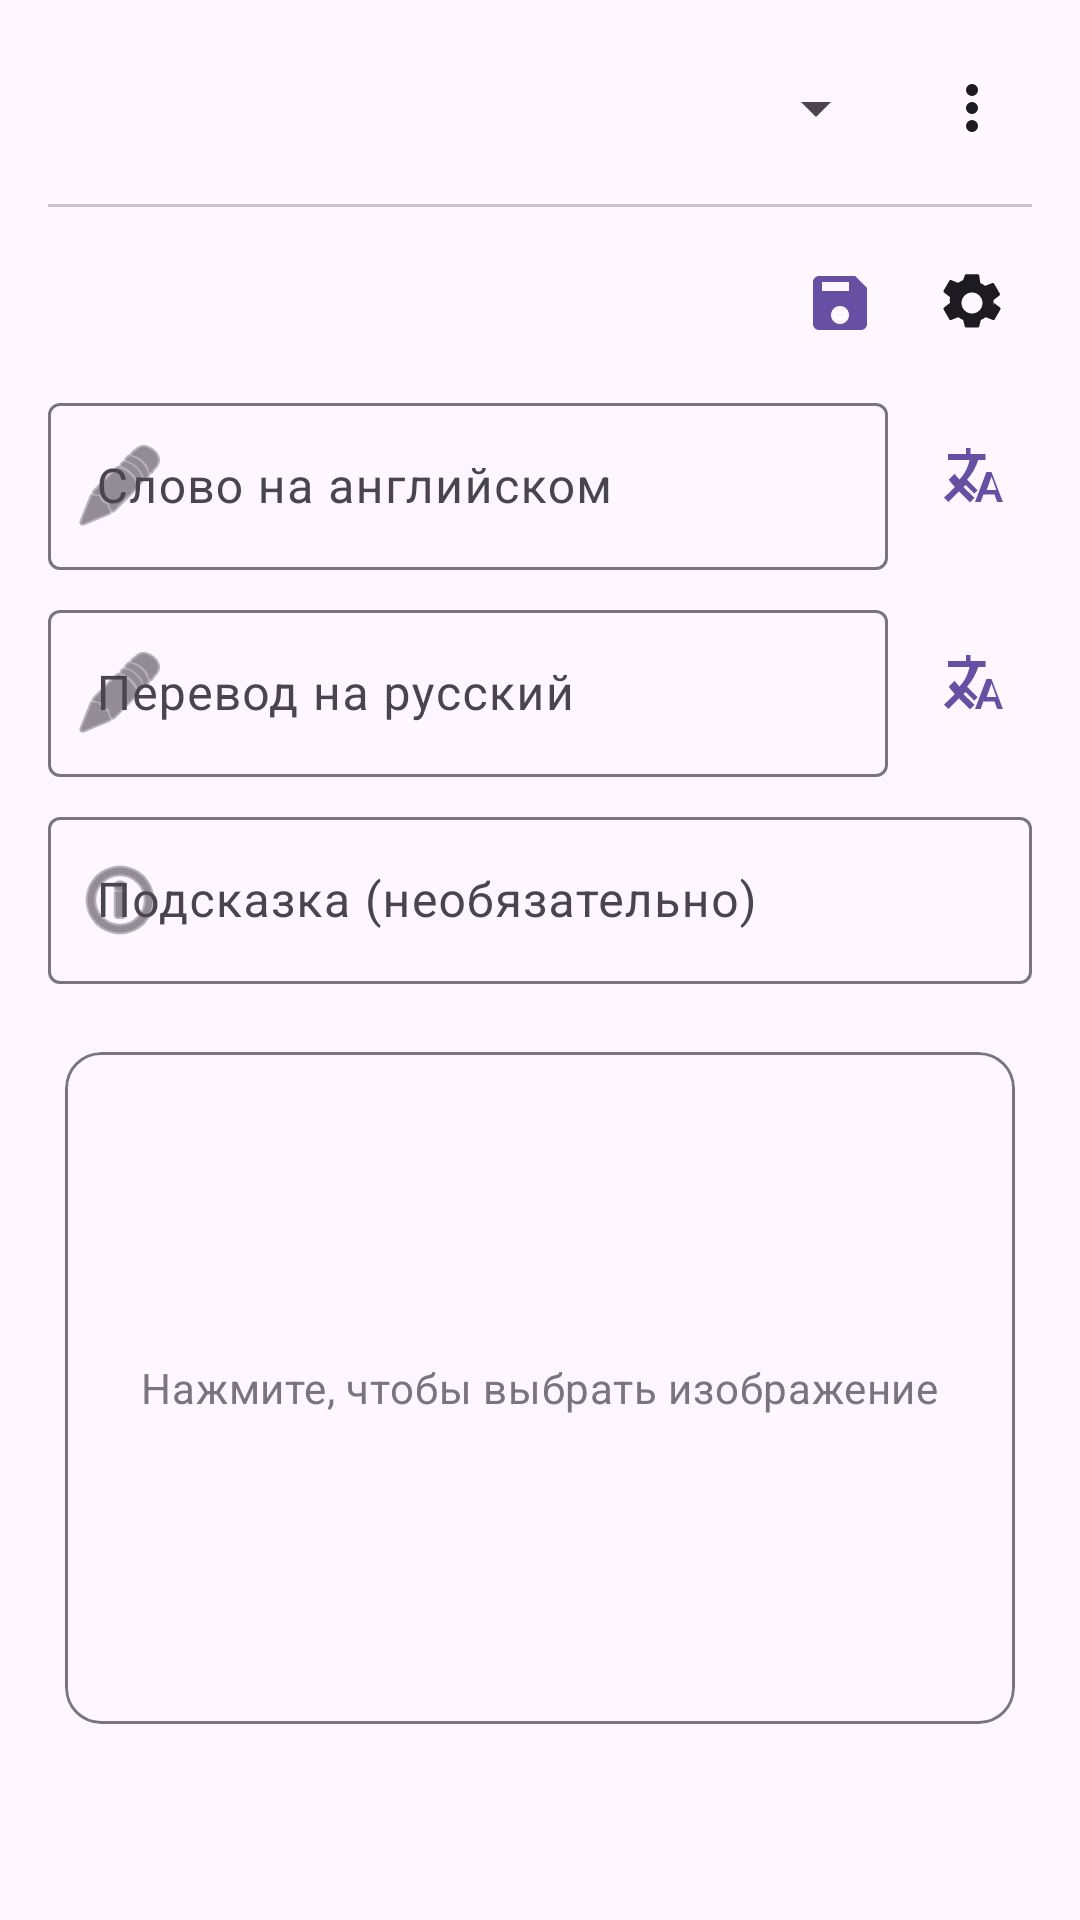

Locate icon controls on the screen. Image size 1080 × 1920, boxes as bbox(x1, y1, x2, y2).
Выбрать перевод на английский: bbox(944, 448, 1003, 502)
Меню коллекции: bbox(966, 84, 978, 132)
Настроить типы карточек: bbox(943, 274, 1001, 328)
Сохранить слово: bbox(813, 276, 867, 330)
